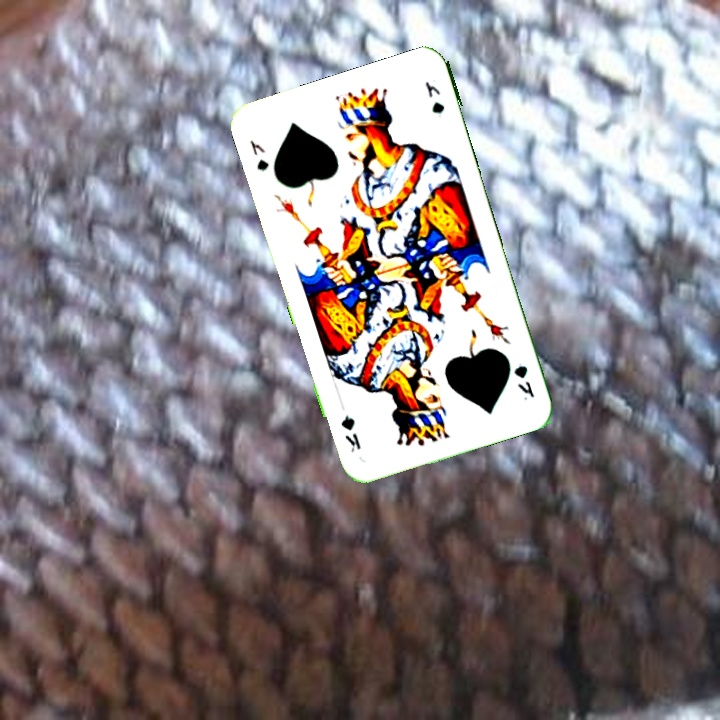GK: (510, 361, 537, 403), (245, 136, 272, 174)
